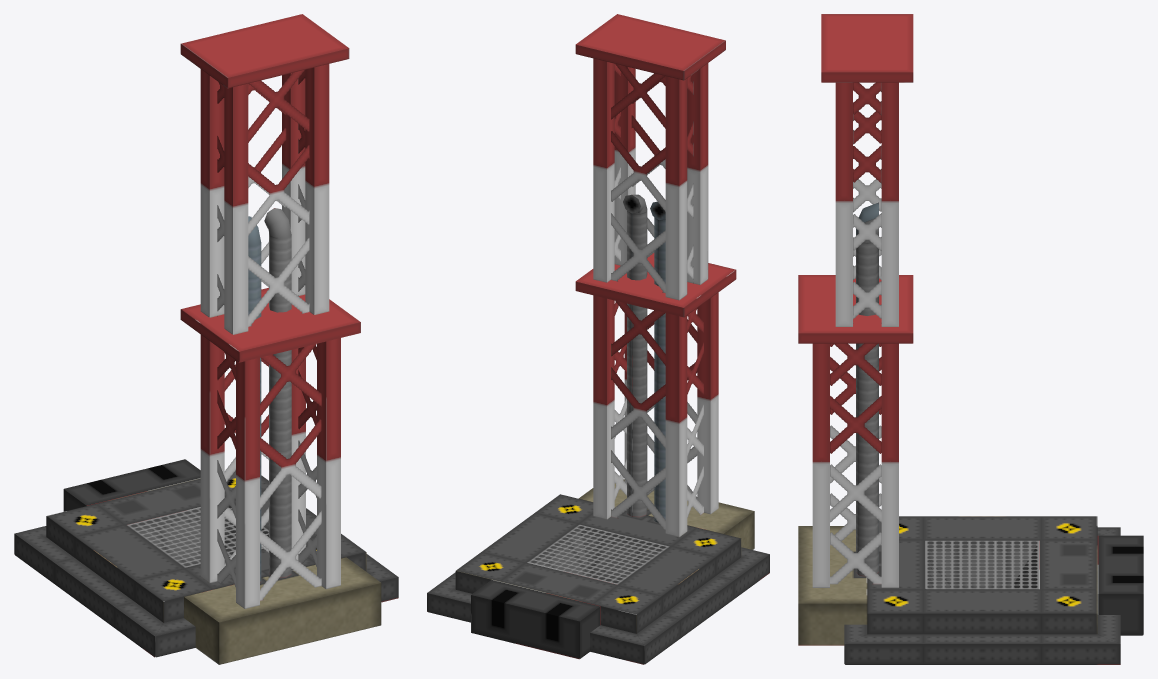
Rendered from huge_pad.obj.
3 views of the same model, side by side, from view 1: azimuth 30°, elevation 25°; view 2: azimuth 150°, elevation 25°; view 3: azimuth 270°, elevation 25° (orthographic). The views are drawn at different scales.
Visible parts, largest first — view 1: huge_pad; view 2: huge_pad; view 3: huge_pad.
Part boxes in pixels (bbox=[...]): huge_pad: bbox=[14, 14, 398, 664]; huge_pad: bbox=[427, 14, 769, 664]; huge_pad: bbox=[798, 14, 1143, 664].
Size of the model in its own units: 6 by 13.5 by 7.5.
